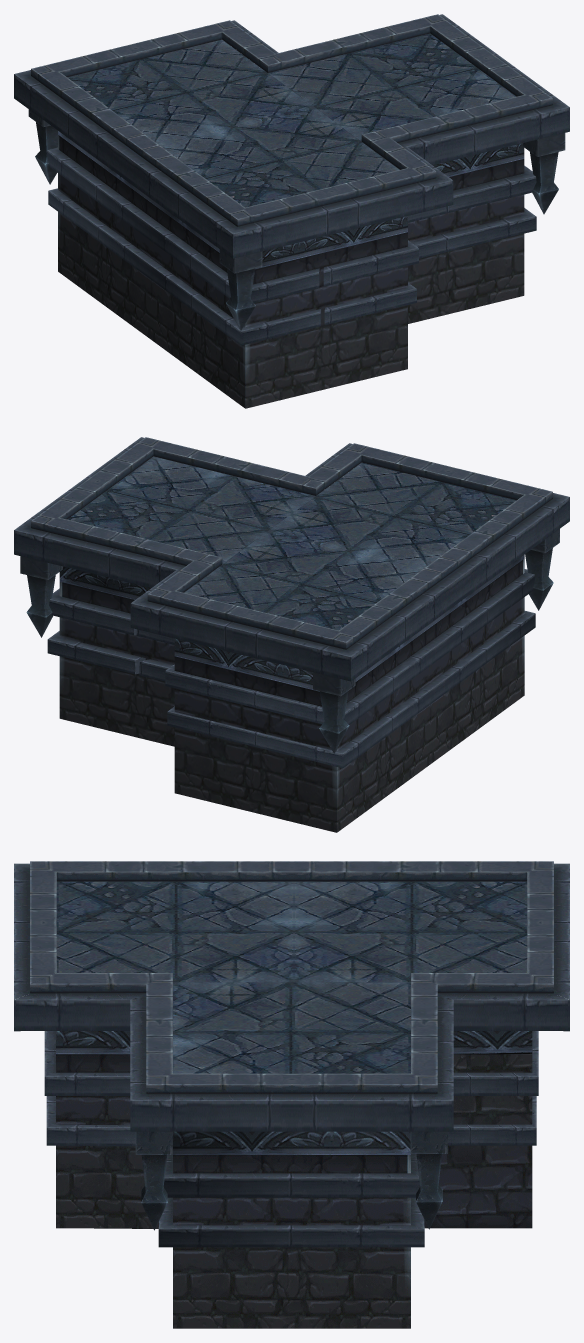
The model's file is Ice_platform08.FBX.
3 views of the same model, one above another, from view 1: azimuth 30°, elevation 25°; view 2: azimuth 150°, elevation 25°; view 3: azimuth 270°, elevation 25° (orthographic). The views are drawn at different scales.
Visible parts, largest first — view 1: Group009; view 2: Group009; view 3: Group009.
Boxes of the visible parts, x1,y1,x2,y2 form: Group009: (14, 14, 569, 408); Group009: (14, 437, 569, 832); Group009: (14, 861, 569, 1328).
Bounding box in the file's own units: 1072 × 537 × 1062.
